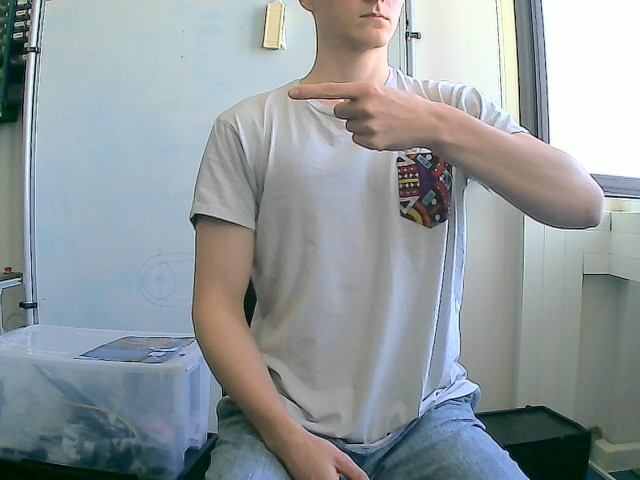right: (286, 79, 437, 153)
